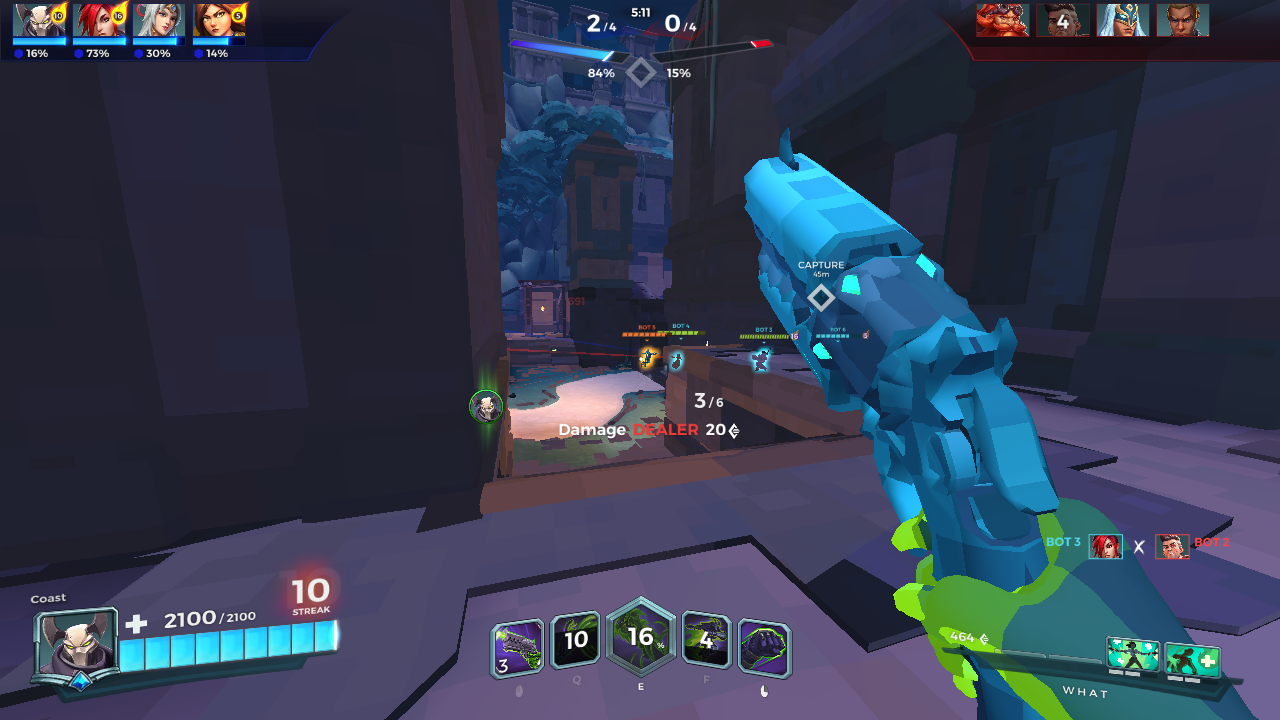model: (642, 340, 653, 368)
